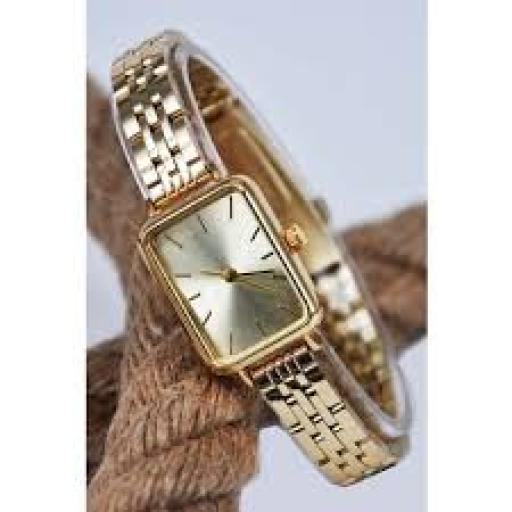KolSaati: (97, 24, 421, 486)
